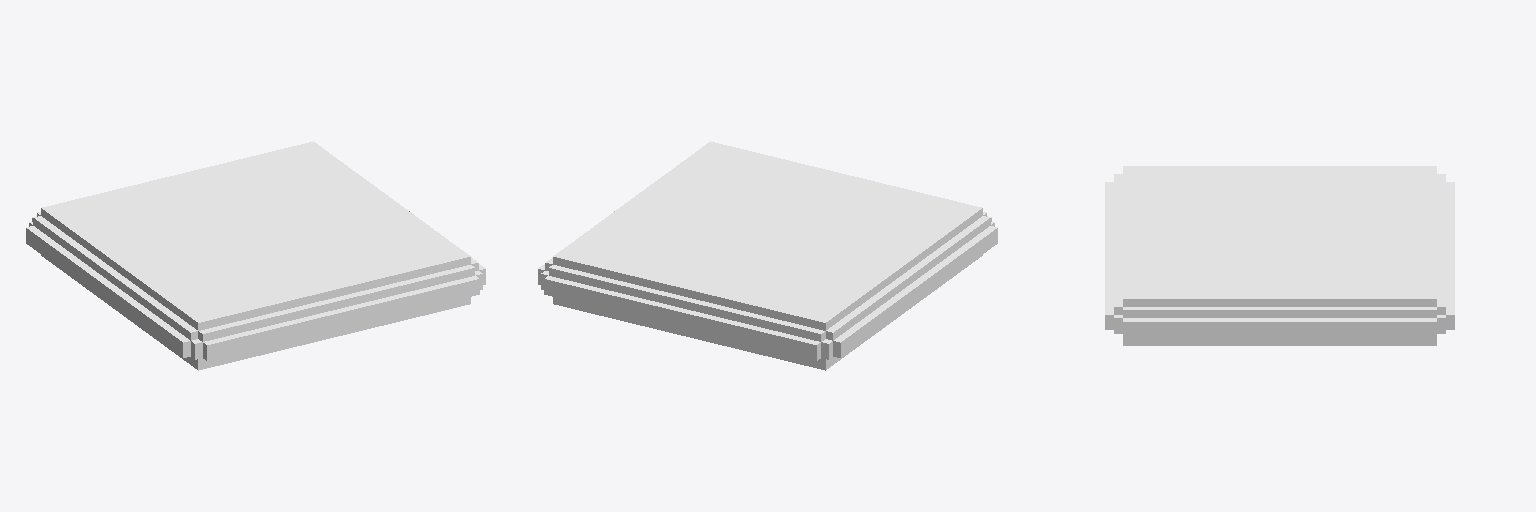
Rendered from decoracao-14.obj.
The picture shows the model from 3 angles: view 1: azimuth 30°, elevation 25°; view 2: azimuth 150°, elevation 25°; view 3: azimuth 270°, elevation 25°; orthographic projection.
Visible parts, largest first — view 1: object 1; view 2: object 1; view 3: object 1.
Boxes of the visible parts, x1=… form: object 1: x1=26, y1=141, x2=485, y2=370; object 1: x1=538, y1=141, x2=997, y2=370; object 1: x1=1105, y1=166, x2=1454, y2=345.
Size of the model in its own units: 4 by 0.6 by 4.